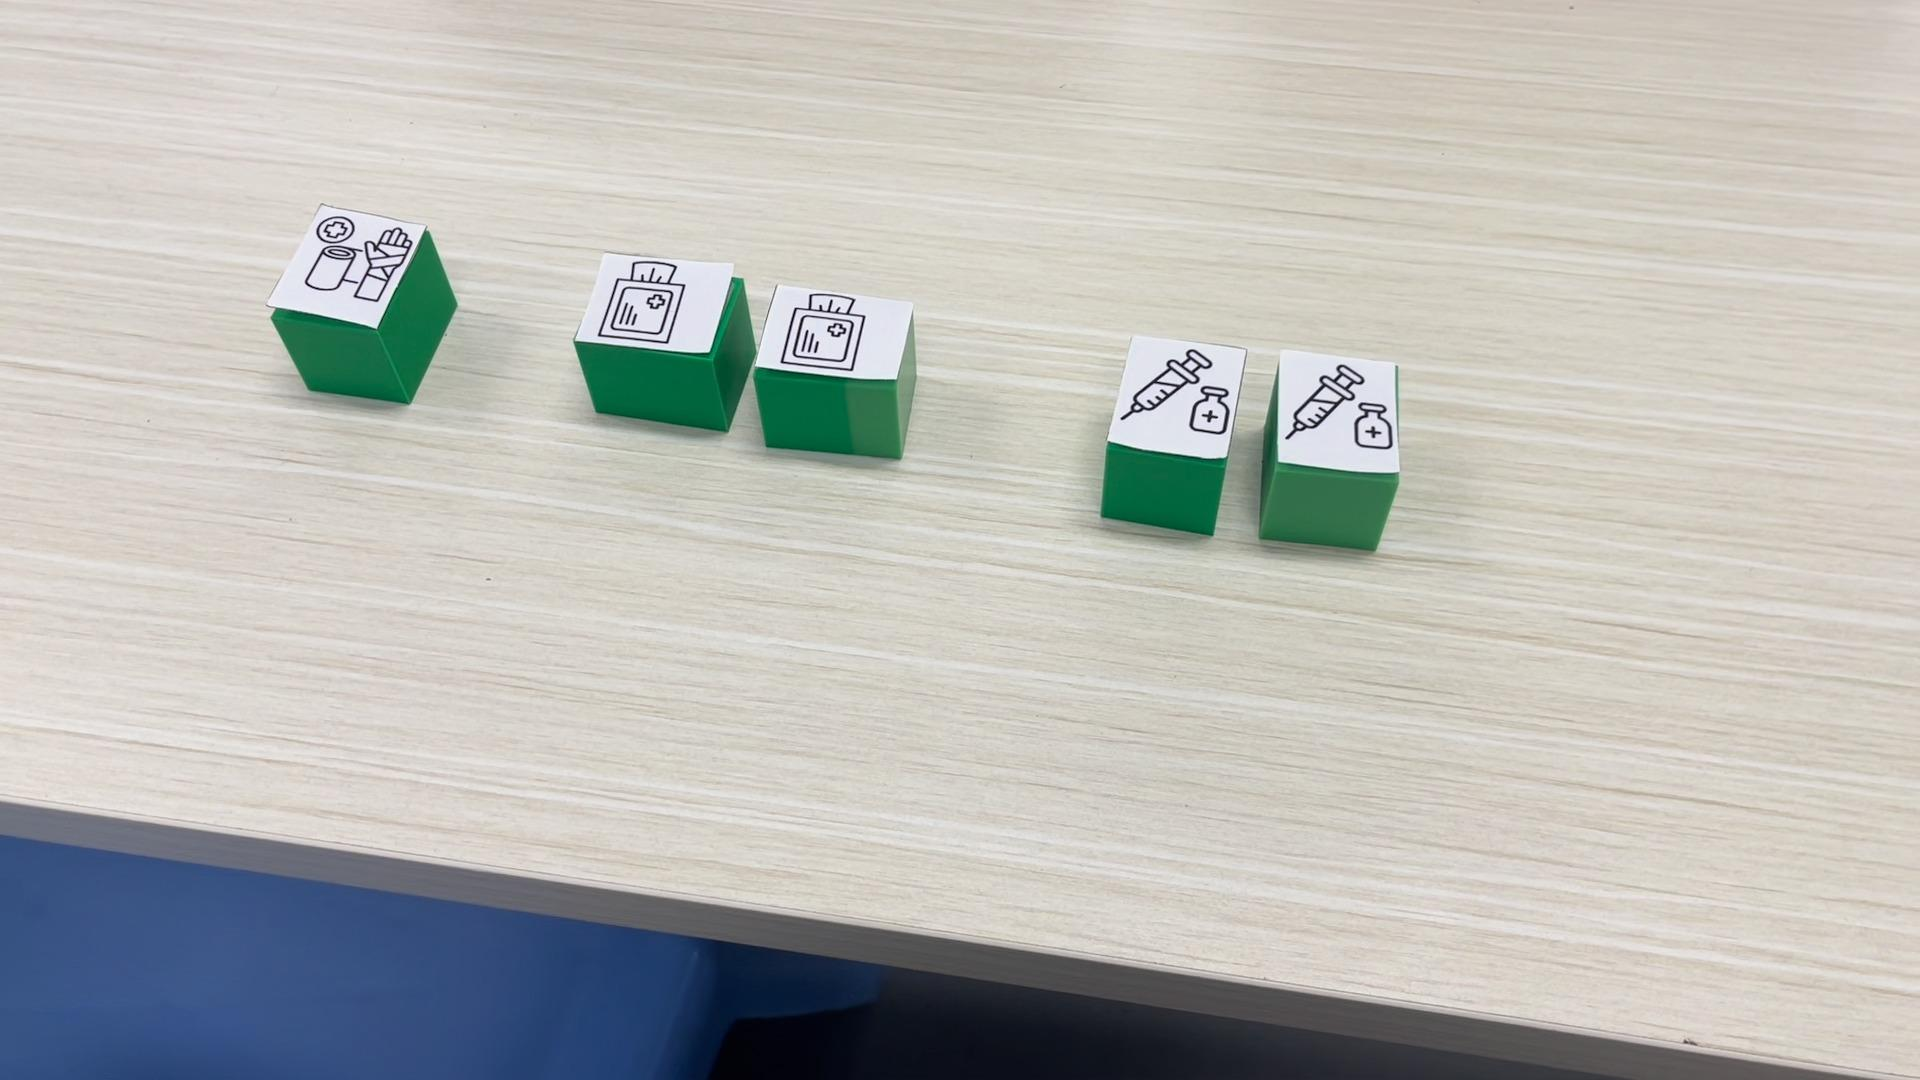Bandages: (266, 202, 458, 405)
Gauze: (575, 252, 756, 435), (758, 282, 919, 460)
antiseptic cream: (1098, 334, 1246, 543), (1257, 342, 1402, 551)
